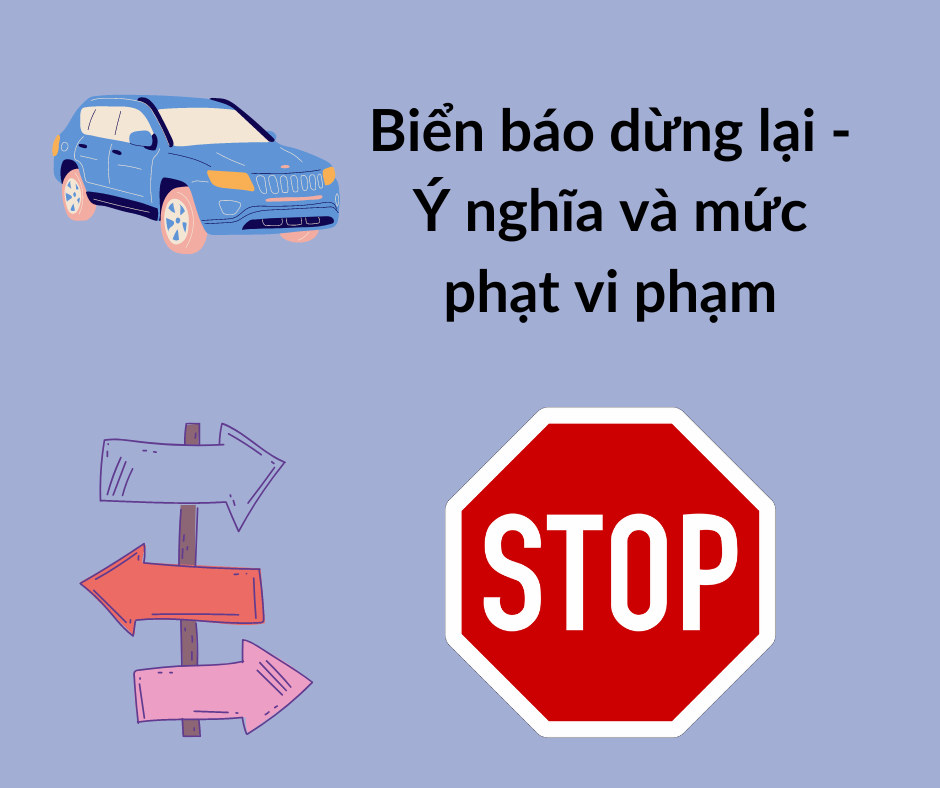Stop: (436, 401, 786, 746)
